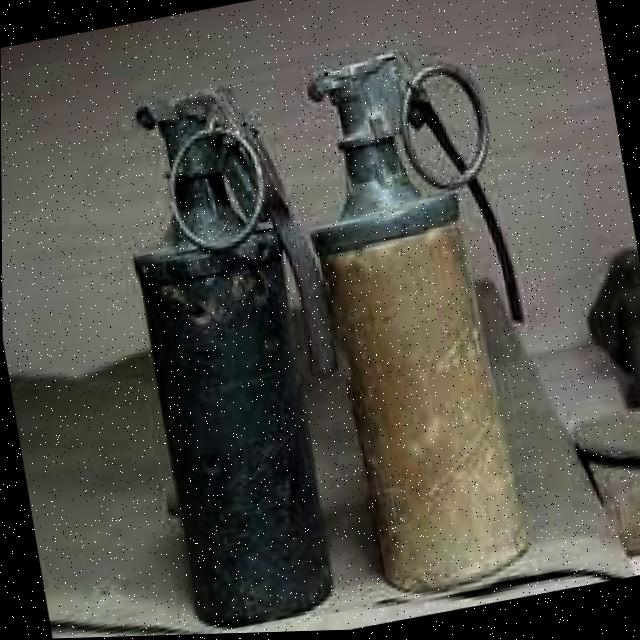grenade: (286, 15, 568, 603), (93, 64, 371, 638)
